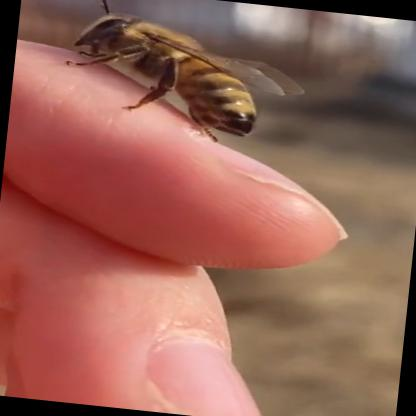bee: (39, 0, 306, 170)
